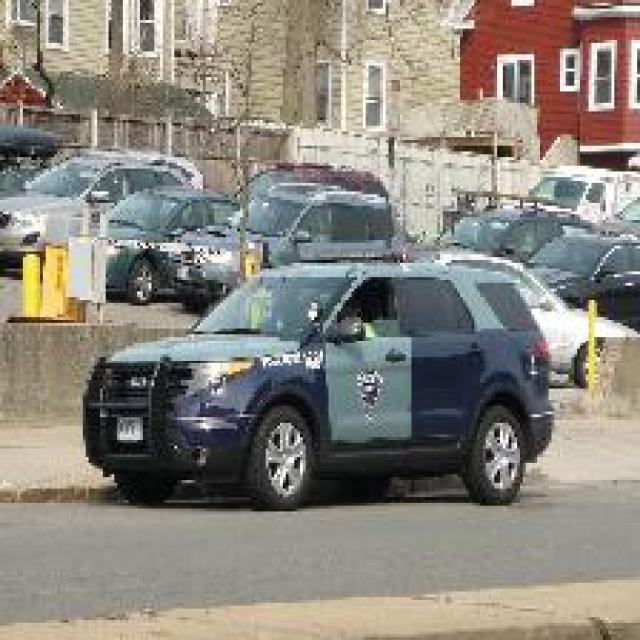Police-car: (80, 252, 554, 508)
